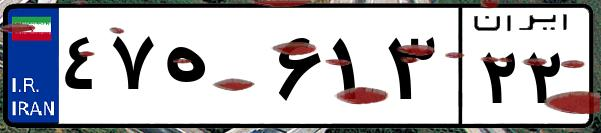1: (330, 28, 385, 110)
2: (475, 38, 525, 113), (525, 38, 570, 115)
3: (385, 28, 445, 110)
4: (57, 26, 110, 100)
6: (270, 28, 330, 110)
7: (110, 28, 158, 98)
ه: (158, 20, 270, 120)
